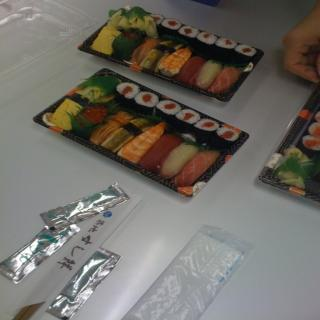Sushi: (42, 72, 224, 188), (87, 3, 242, 94), (274, 149, 316, 188), (130, 89, 162, 115), (190, 116, 222, 142), (228, 42, 259, 67), (152, 96, 182, 120), (210, 34, 238, 59), (211, 124, 240, 148), (298, 132, 320, 160), (192, 31, 217, 52), (174, 105, 196, 128), (116, 82, 136, 105), (174, 23, 197, 39), (161, 16, 183, 31), (304, 121, 319, 136), (151, 13, 167, 25), (312, 109, 320, 121)
